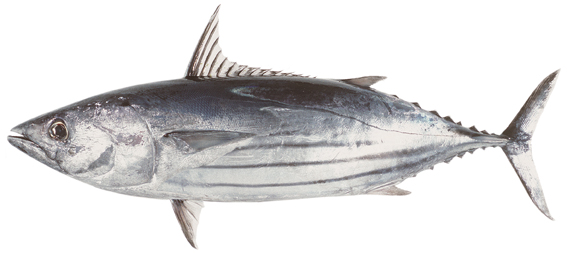fish: (6, 3, 562, 250)
